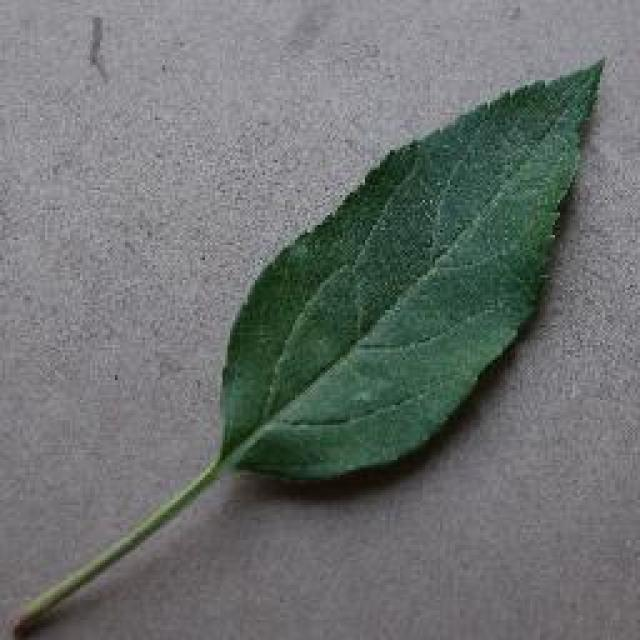apple healthy: (5, 50, 607, 638)
